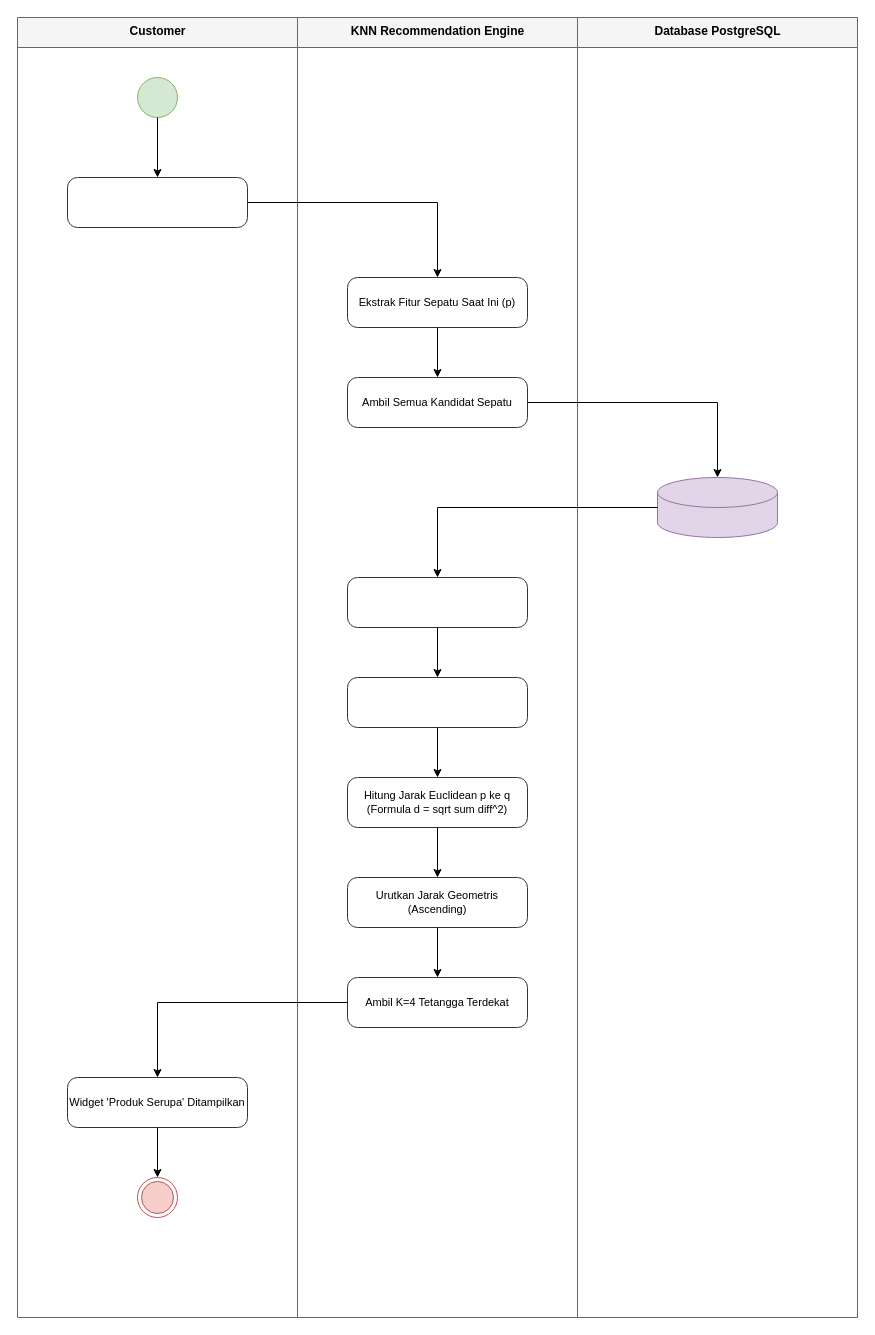
The diagram is 875 pixels wide and 1335 high, and some of its shapes have lost their labels. Here are the shapes that lost their labels. From the top down, the centre of each, then its label:
At point (157, 202): "Membuka Detail Produk".
At point (717, 507): "Query Table Product".
At point (437, 602): "One-Hot Encoding Atribut Nominal (Gender, Material, Kategori)".
At point (437, 702): "Min-Max Normalization Harga (price mapped 0.0 s/d 1.0)".
